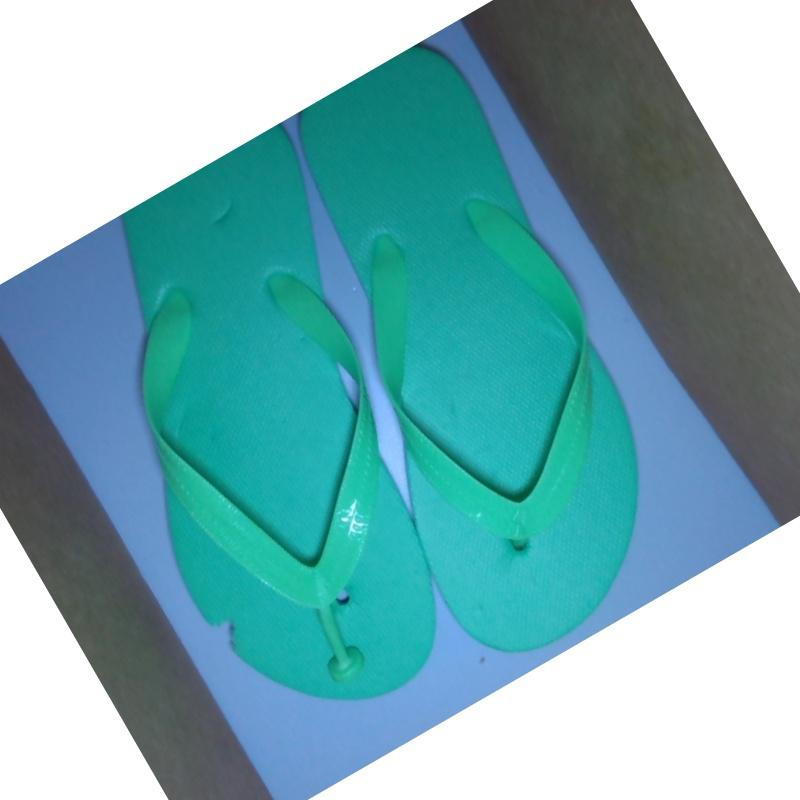chipped: (198, 606, 246, 665)
detached: (309, 631, 382, 692)
